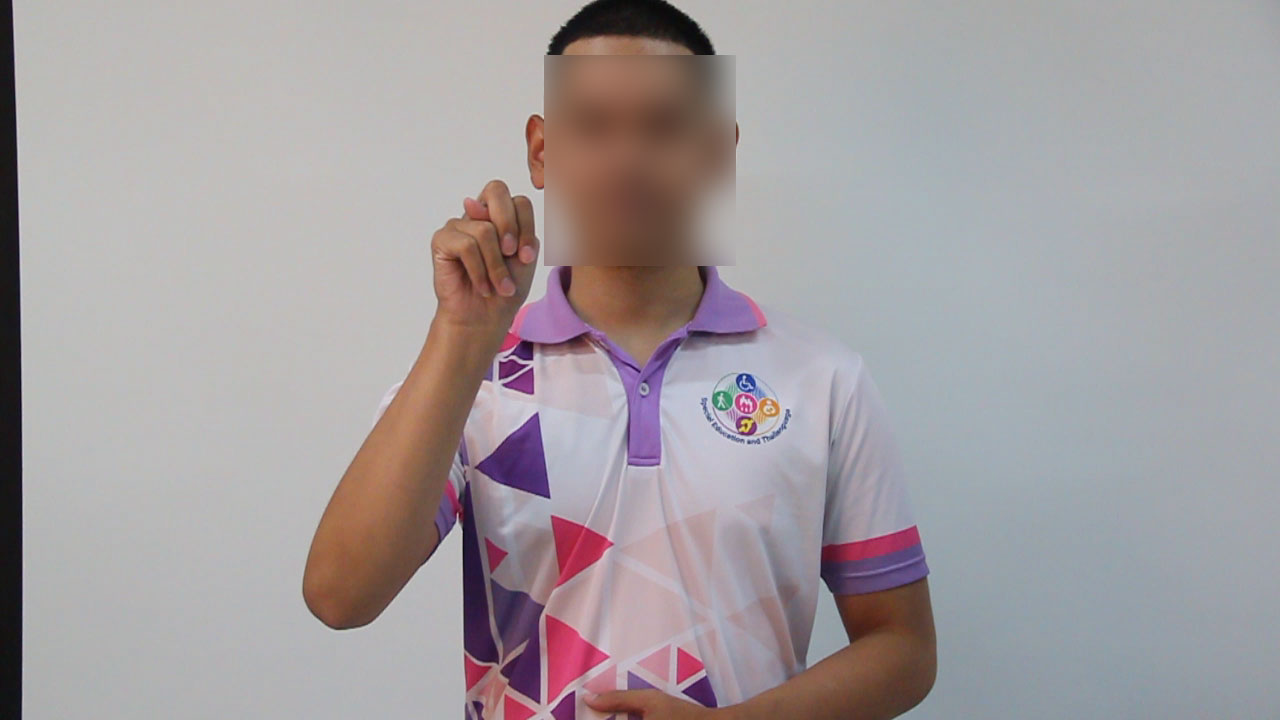nor: (404, 172, 557, 330)
